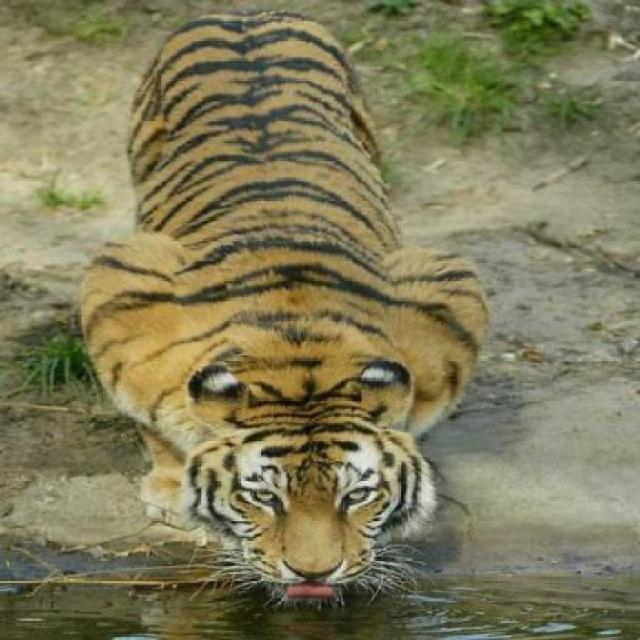tiger: (78, 8, 490, 610)
